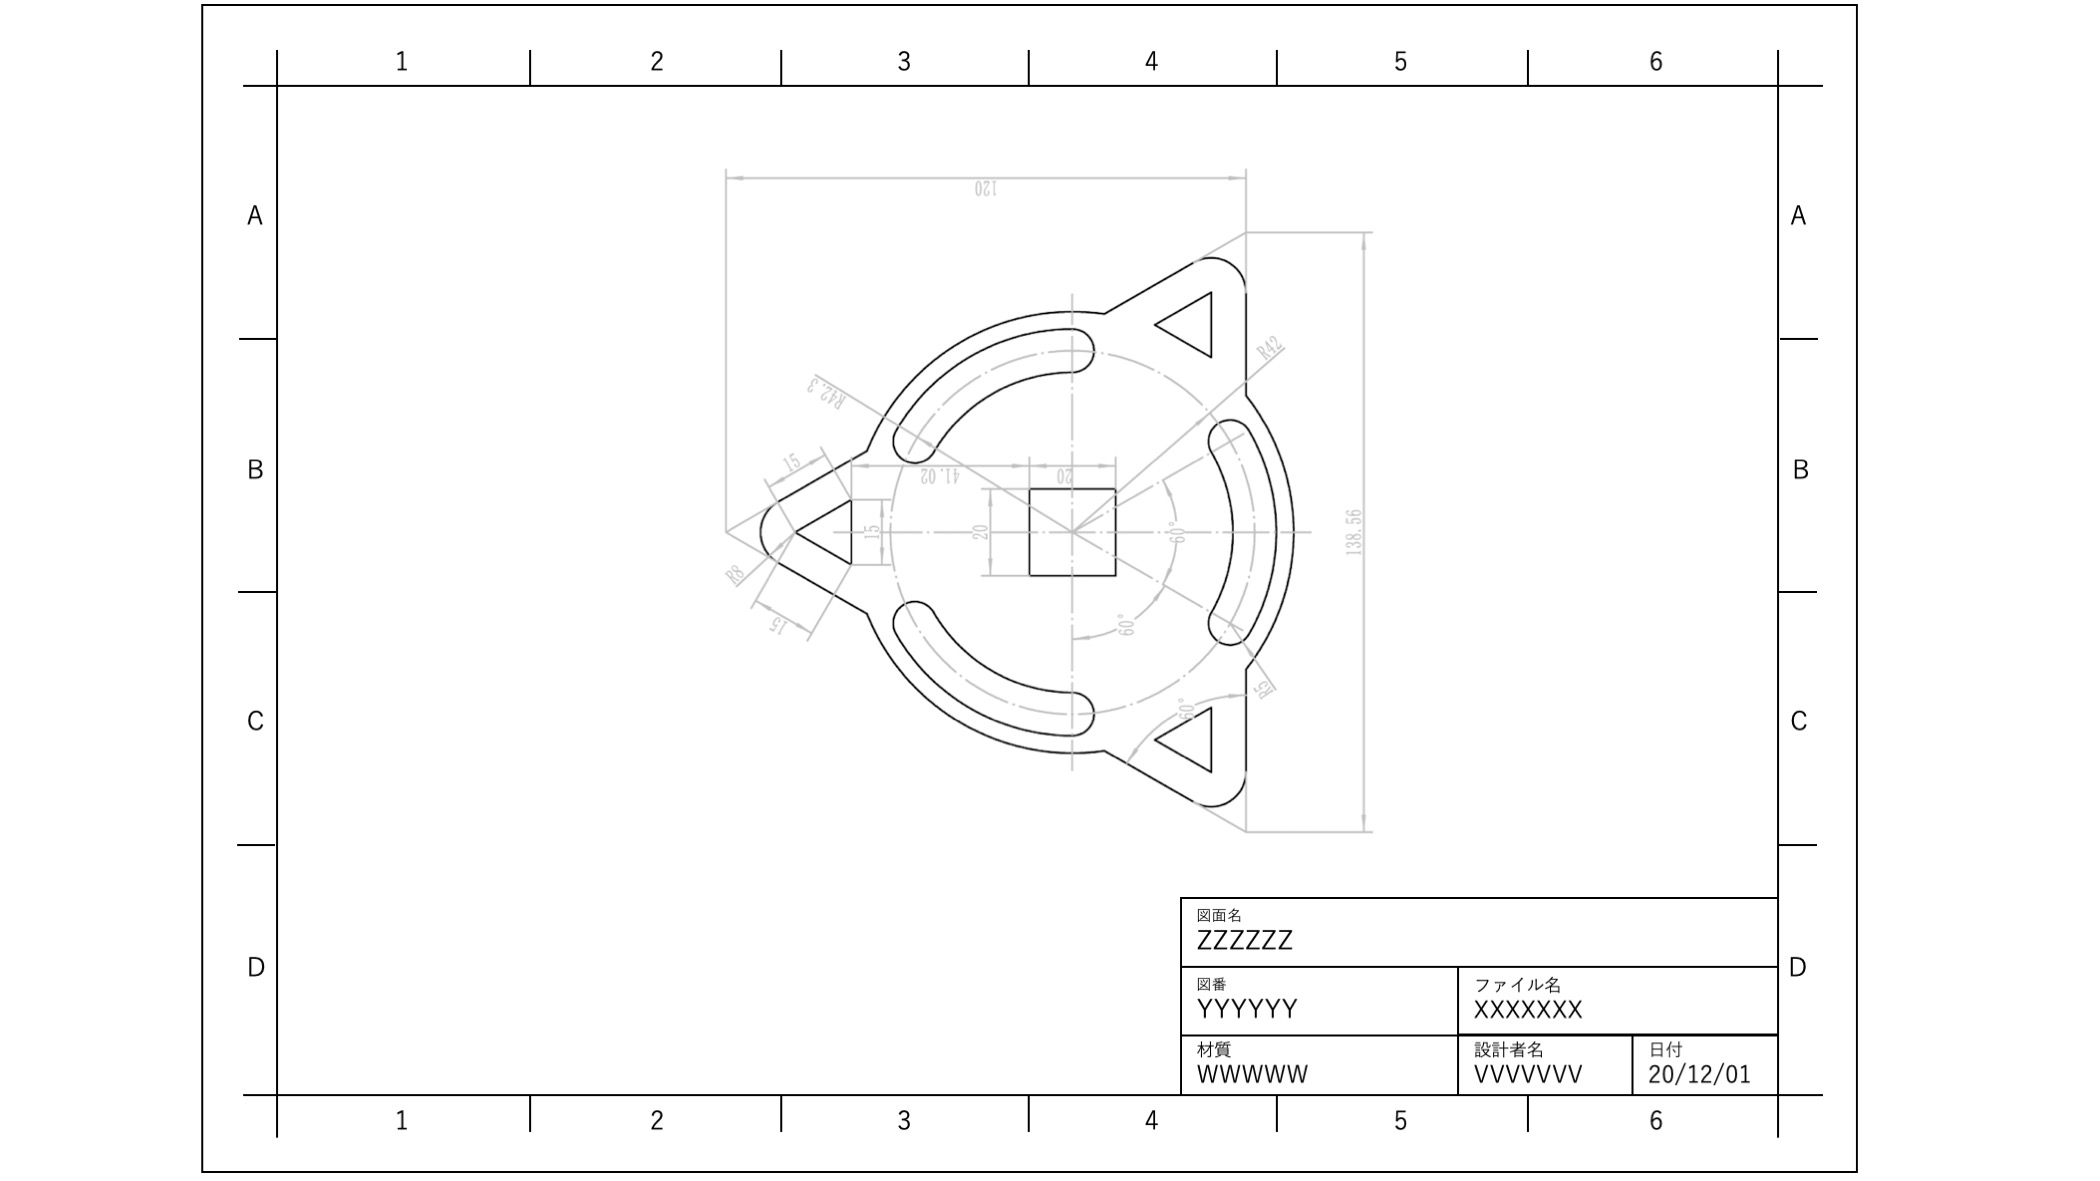rectangle: (1007, 476, 1124, 583)
round_rectangle: (875, 310, 1102, 463), (891, 596, 1096, 743), (1183, 401, 1291, 650)
triangle: (1147, 701, 1227, 782), (787, 497, 864, 571), (1150, 286, 1222, 363)
